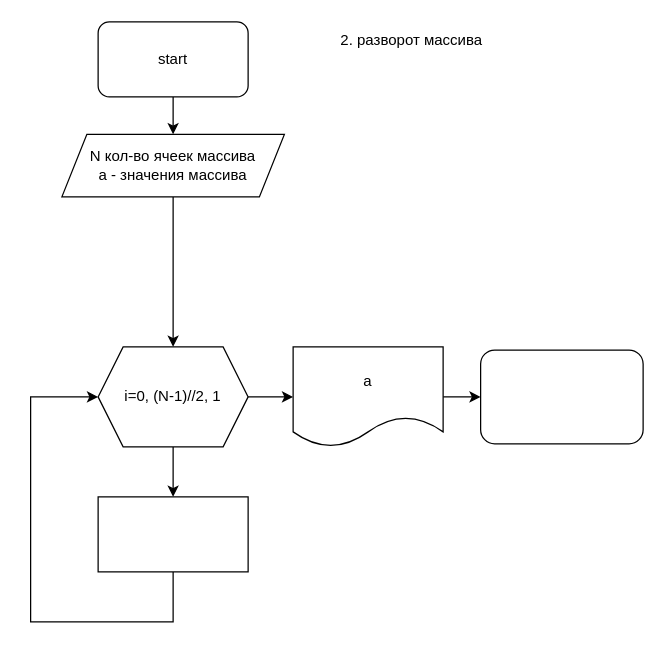
Some shapes in this 665 by 654 pixel diagram are drawn without their labels. The centre of each missing label's shape, as x and y in pixels:
finish: point (561, 396)
vremennay=a[N-1-i] a[N-1-i]=a[i] a[i]=vremennay: point (172, 534)
